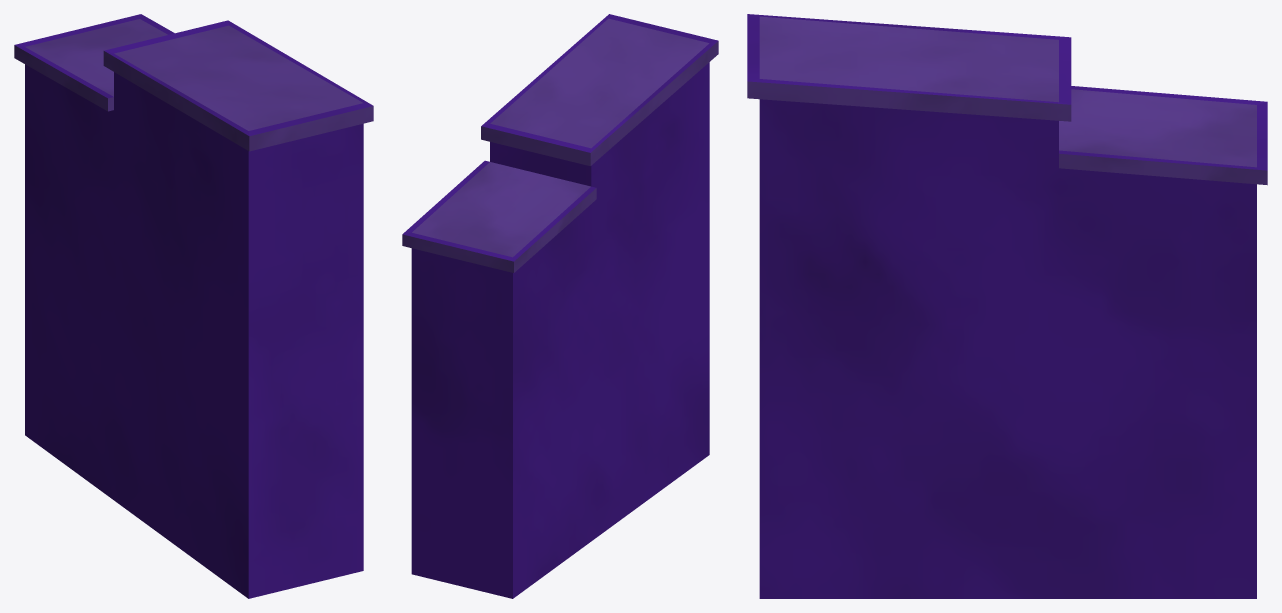
The model's file is SM_Fence.fbx.
3 views of the same model, side by side, from view 1: azimuth 30°, elevation 25°; view 2: azimuth 150°, elevation 25°; view 3: azimuth 270°, elevation 25° (orthographic). The views are drawn at different scales.
Visible parts, largest first — view 1: wall; view 2: wall; view 3: wall.
Part boxes in pixels (x1=…): wall: x1=14, y1=14, x2=373, y2=598; wall: x1=402, y1=14, x2=718, y2=598; wall: x1=747, y1=14, x2=1267, y2=598.
Bounding box in the file's own units: 217 × 765 × 693.
